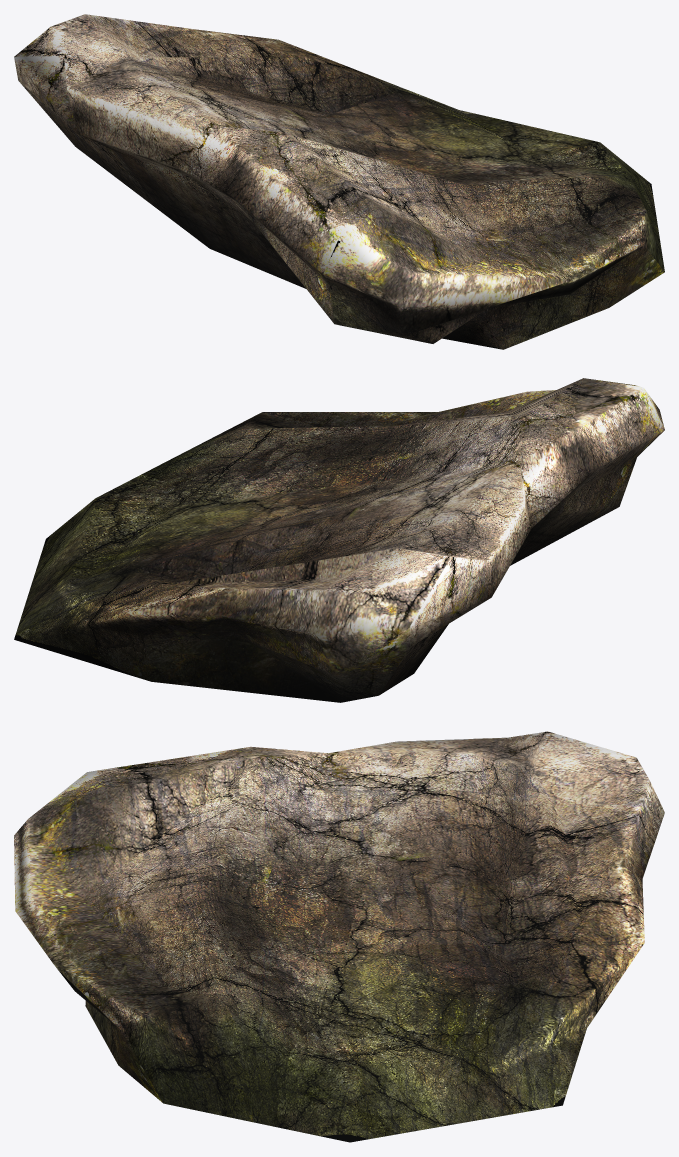
File: rock_008_LOD1.obj
3 renders of one model, top to bottom at view 1: azimuth 30°, elevation 25°; view 2: azimuth 150°, elevation 25°; view 3: azimuth 270°, elevation 25°, orthographic. The views are drawn at different scales.
Parts seen in each view (by area): view 1: rock_008_LOD1 rock_008; view 2: rock_008_LOD1 rock_008; view 3: rock_008_LOD1 rock_008.
Part boxes in pixels (box(x1,y1,x2,y2)): rock_008_LOD1 rock_008: box(14, 14, 664, 349); rock_008_LOD1 rock_008: box(14, 378, 664, 702); rock_008_LOD1 rock_008: box(14, 731, 664, 1142).
Size of the model in its own units: 615 by 215 by 689.
Materials: 1 (1 with a texture image).
